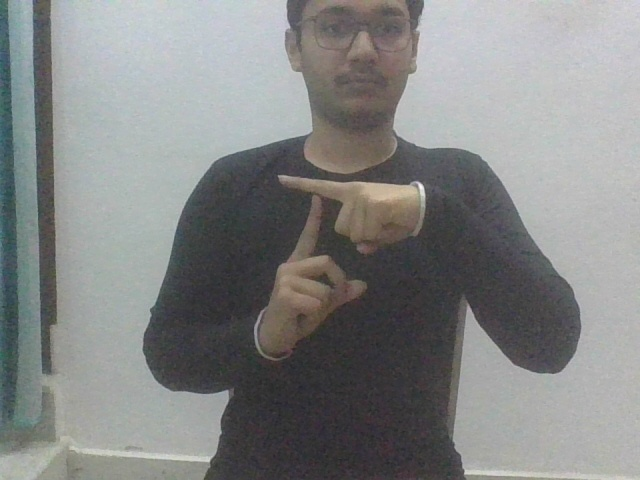T: (254, 168, 427, 360)
